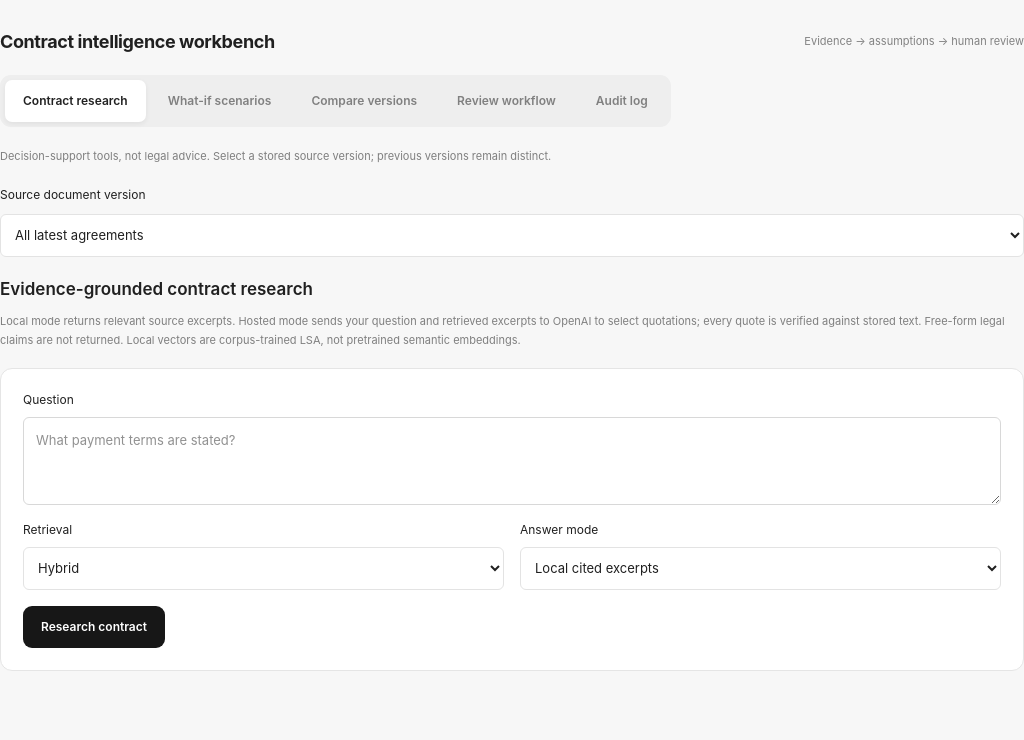
Scenario: keeps report export disabled until an explicit reviewer decision
Click the tab "Review workflow" at (506, 101), box left=439, top=80, right=574, bottom=122
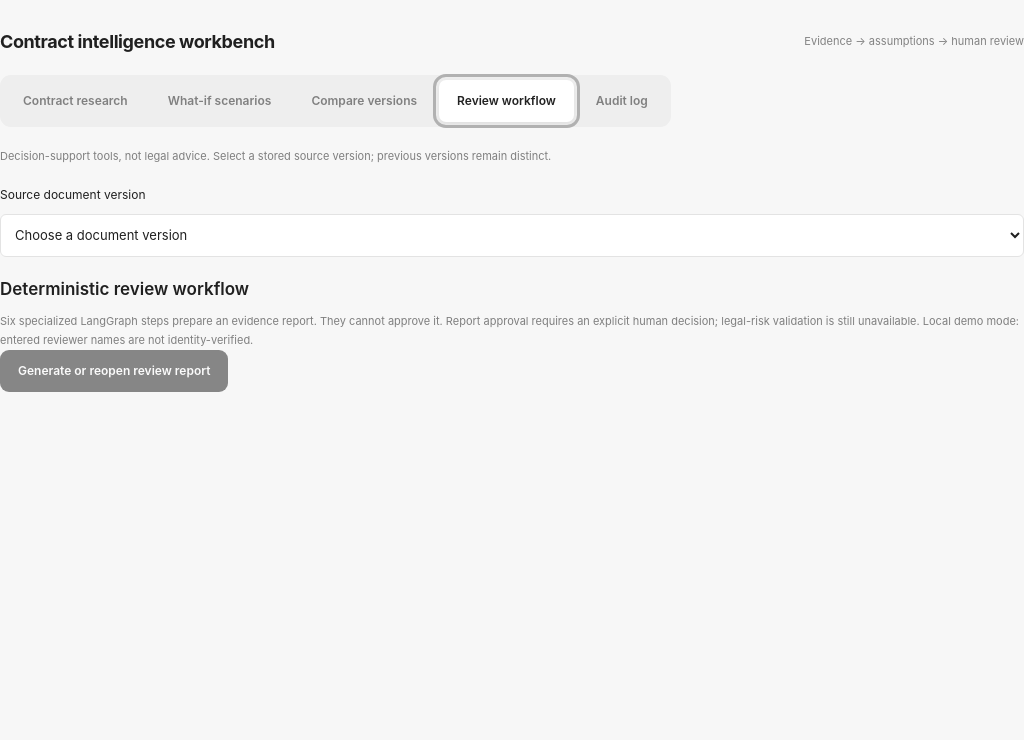
Select "Synthetic vendor · v1 · vendor" in the dropdown named "Workbench source version" at (512, 235), box left=0, top=214, right=1023, bottom=257
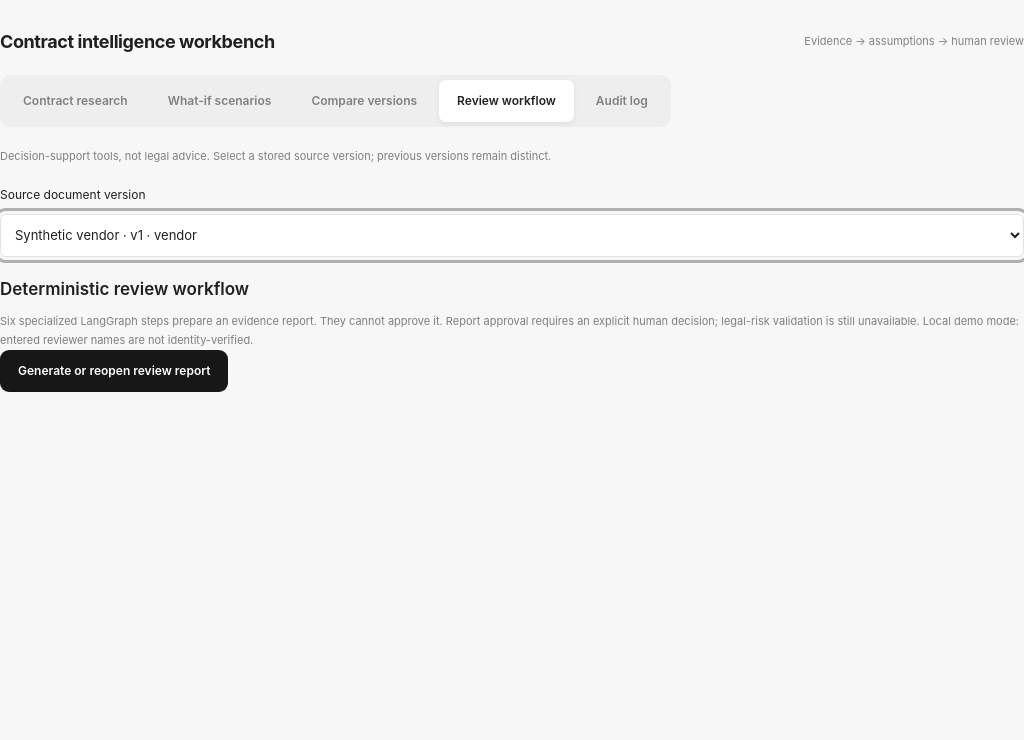
Click the button "Generate or reopen review report" at (114, 371), box left=0, top=350, right=228, bottom=392
(page scrolled)
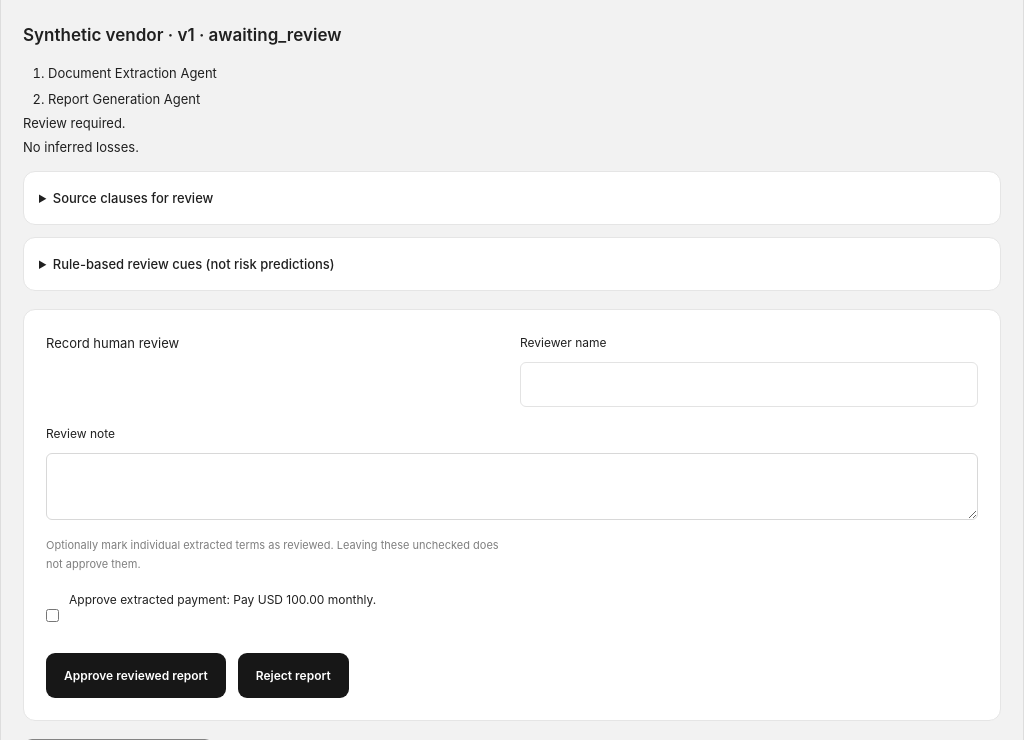
Type "Demo reviewer" into the field labelled "Reviewer name" at (749, 384), box left=520, top=362, right=978, bottom=407
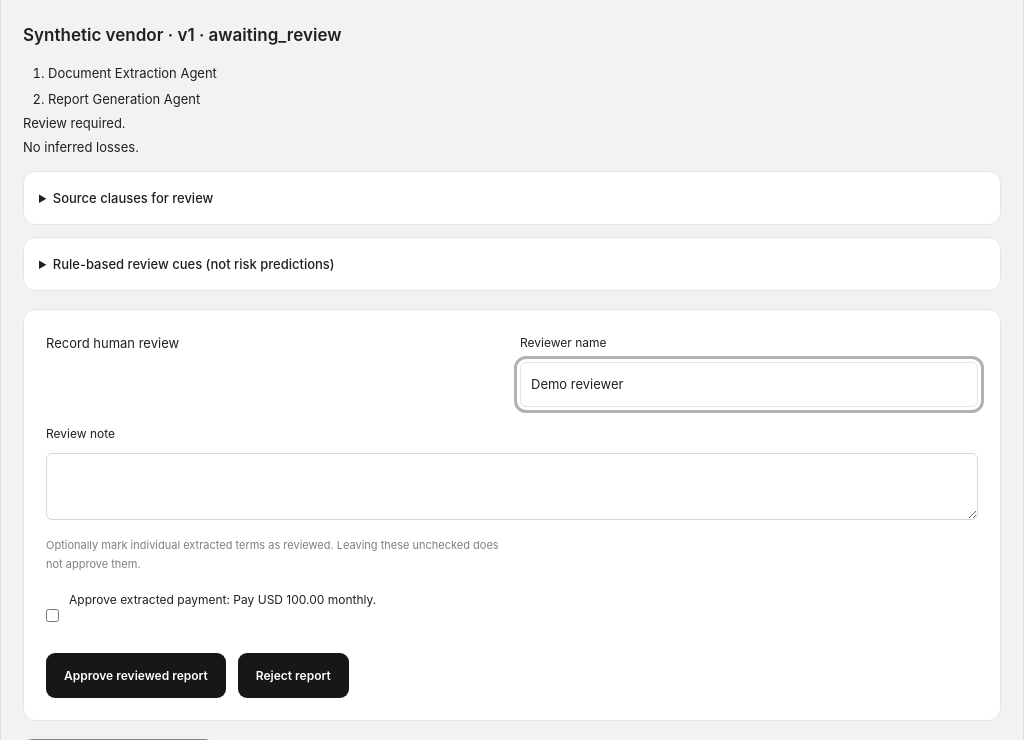
Type "Compared terms against the stored source." into the text box labelled "Review note" at (512, 486), box left=46, top=453, right=978, bottom=520
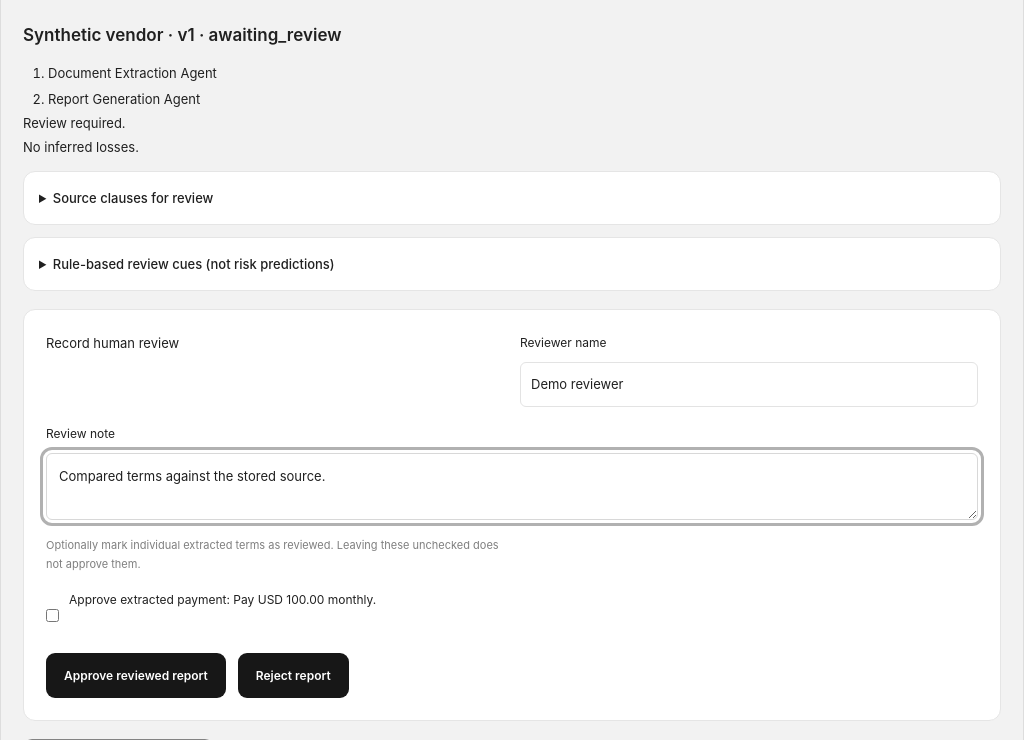
Click the button "Approve reviewed report" at (136, 676), box left=46, top=653, right=226, bottom=698
(page scrolled)
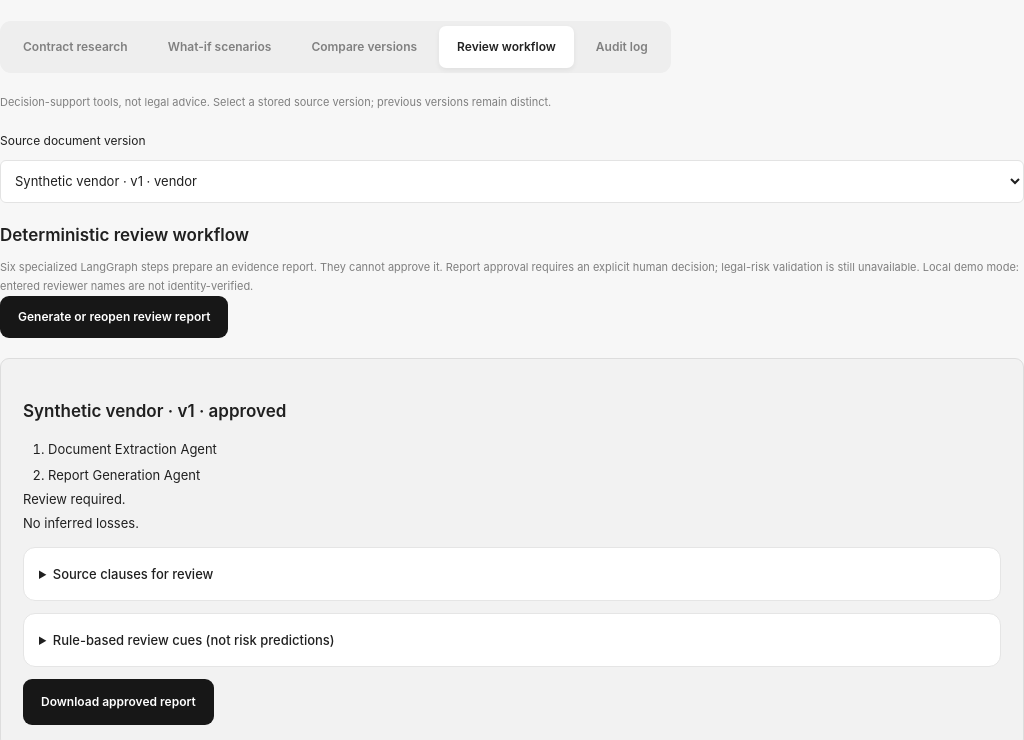
Check: the button "Download approved report" is enabled, box left=23, top=679, right=214, bottom=725
